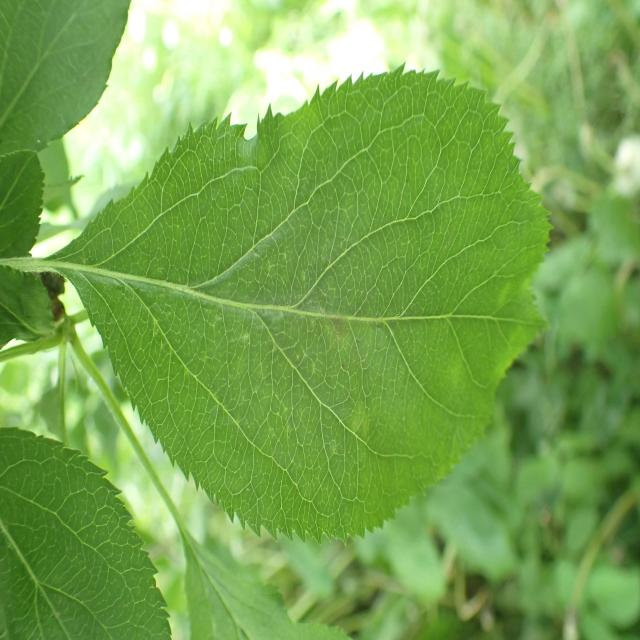scab: (83, 190, 545, 485)
